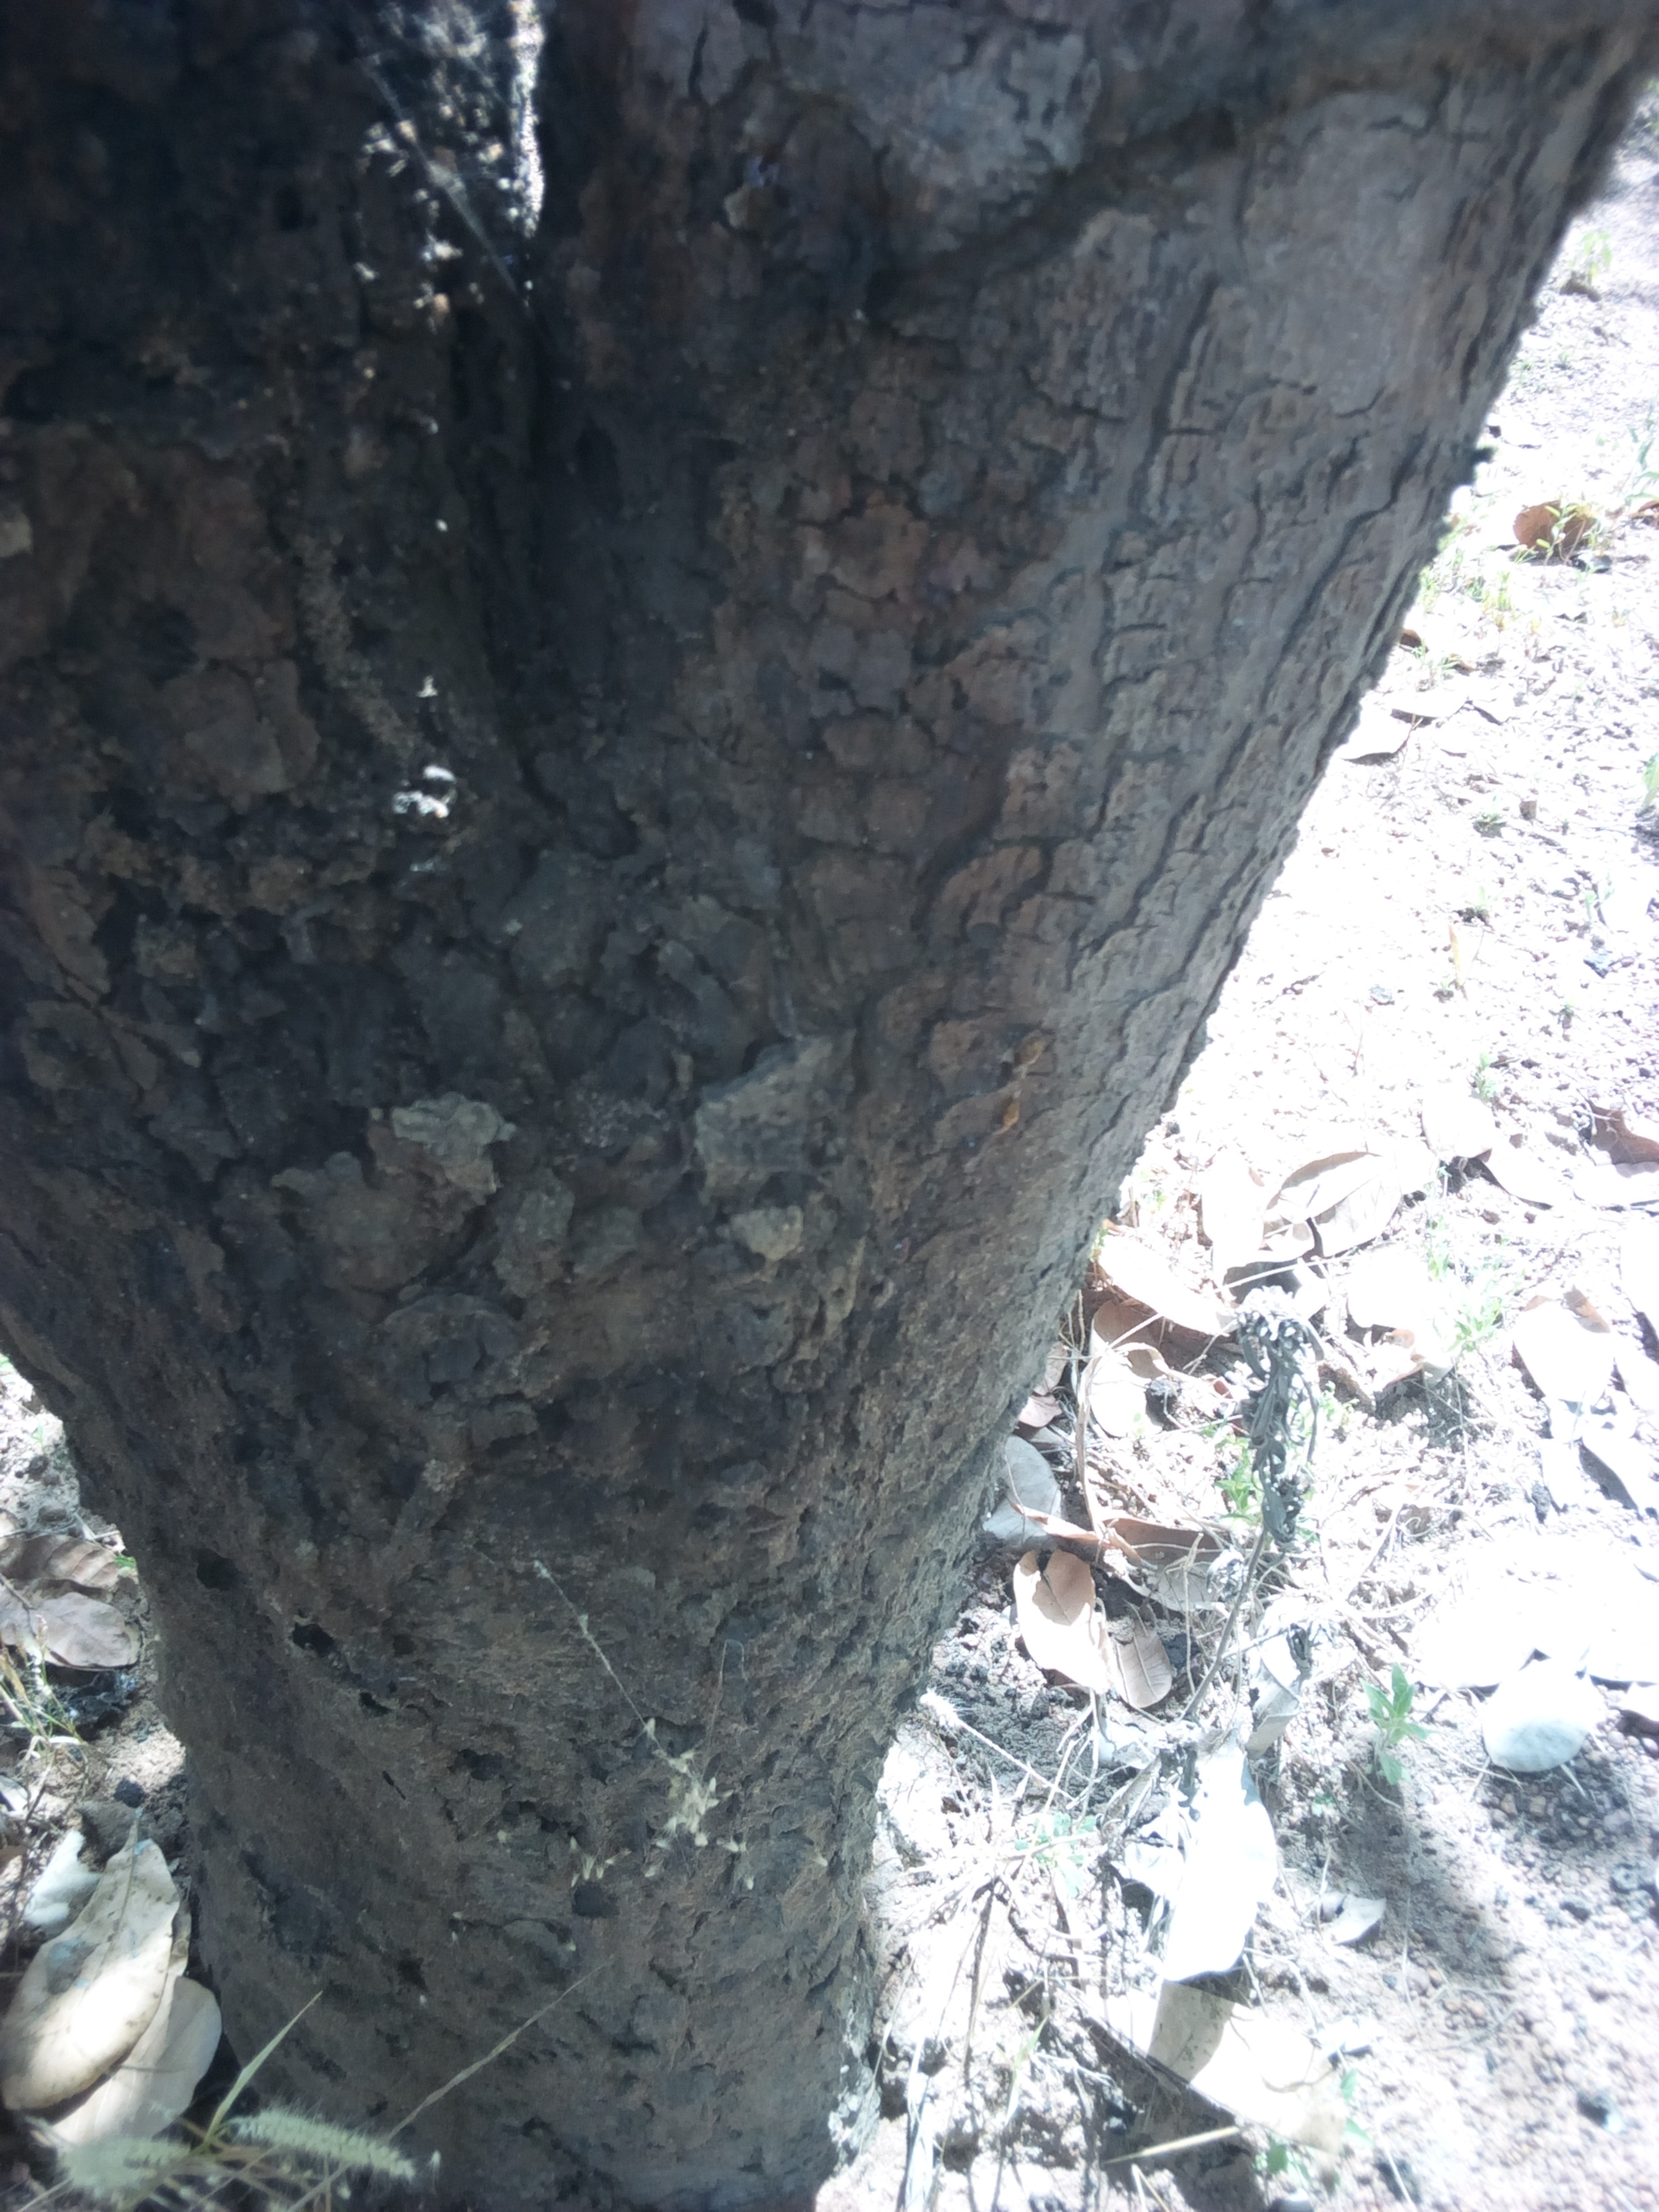Gommose: (37, 73, 979, 1686)
